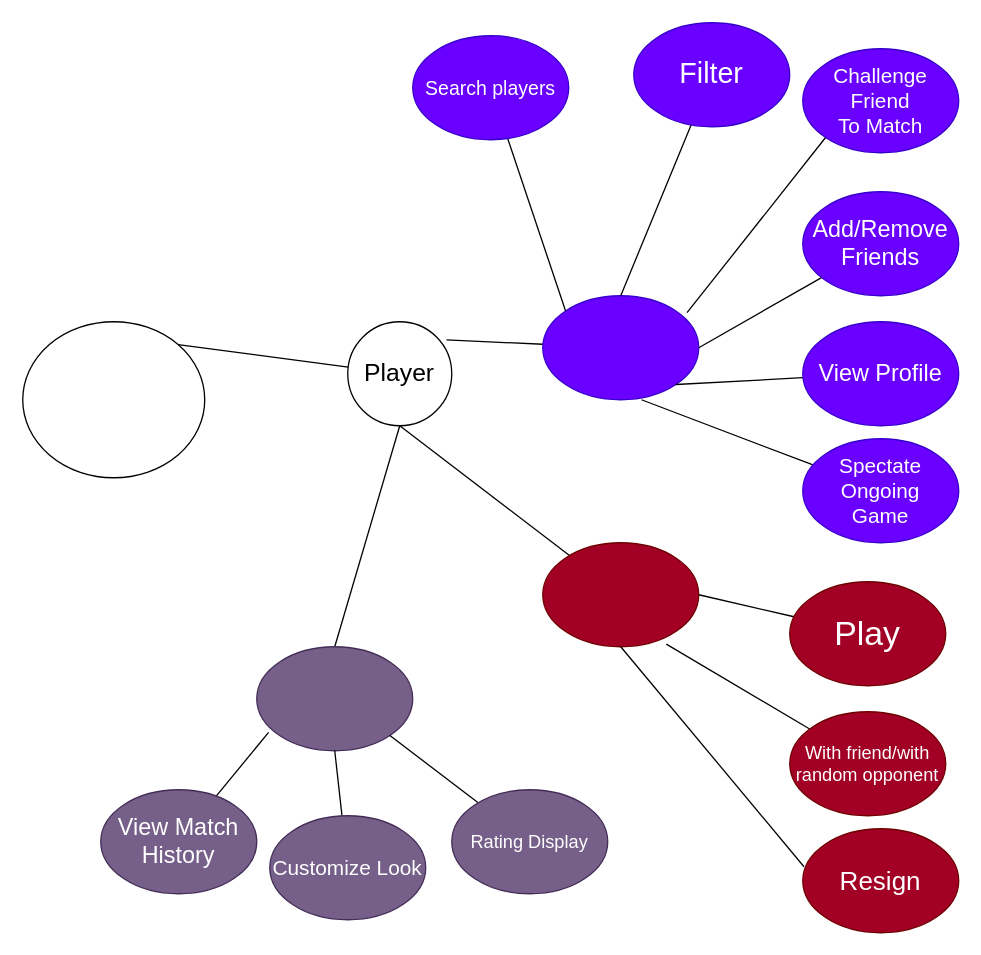
Some shapes in this 981 by 955 pixel diagram are drawn without their labels. Here are the shapes that lost their labels. From the top down, the box of each, then its label:
(541, 294, 699, 400): Friends
(21, 320, 205, 478): RPG CHESS
(541, 541, 699, 647): Game
(255, 645, 413, 751): Profile
